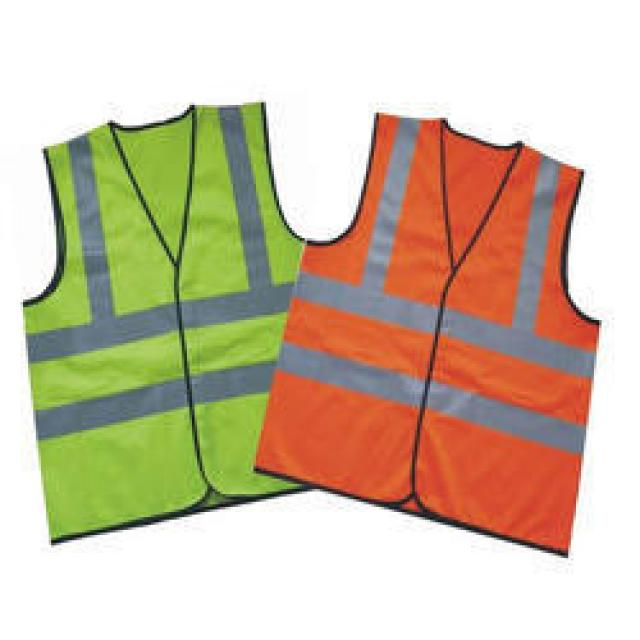Reflective-Jacket: (246, 97, 620, 540), (10, 92, 320, 538)
